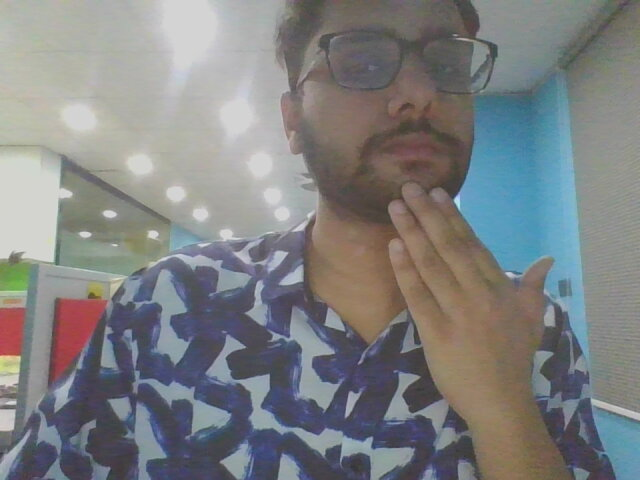thanks: (358, 174, 575, 427)
